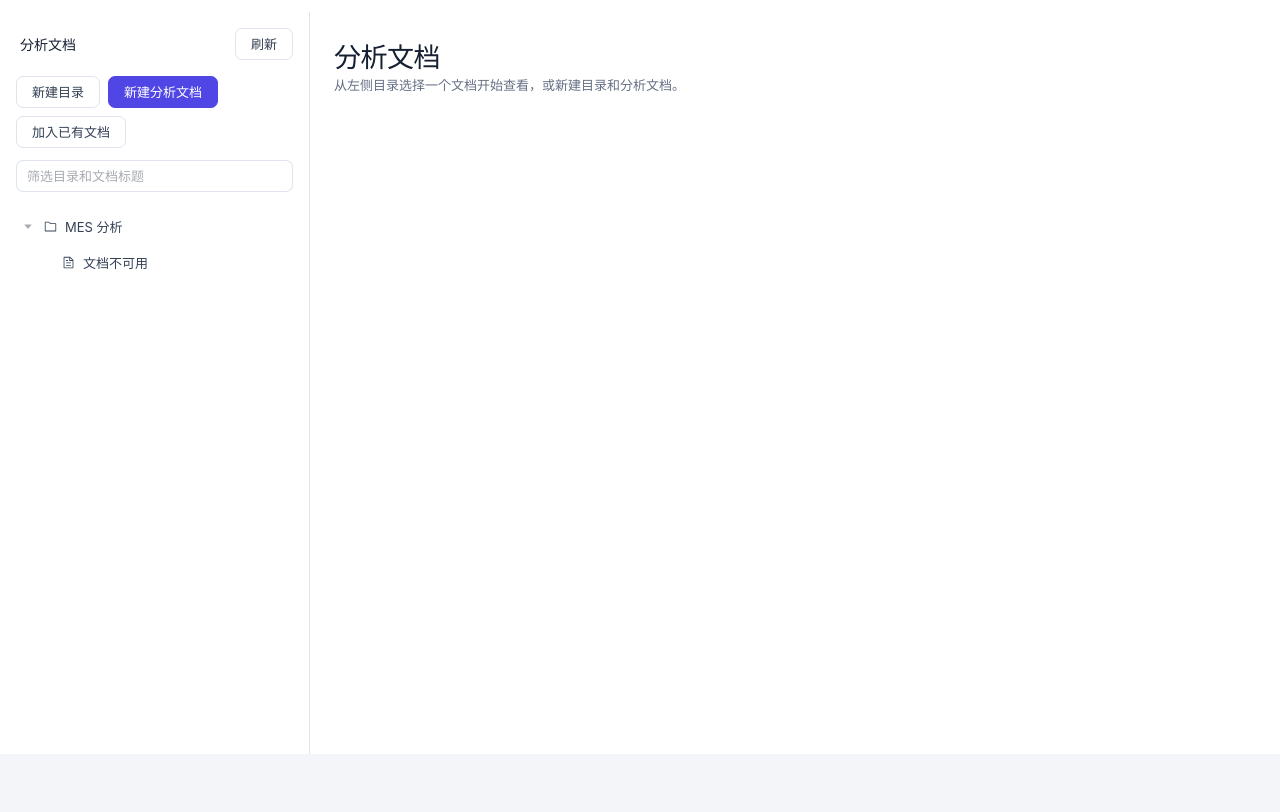
Scenario: B03 placement, title filter and handoff › never filters unavailable nodes by stale titles
Type "删除前标题" into the field named "筛选目录和文档标题". click: x=154, y=176
box: [27, 161, 282, 191]
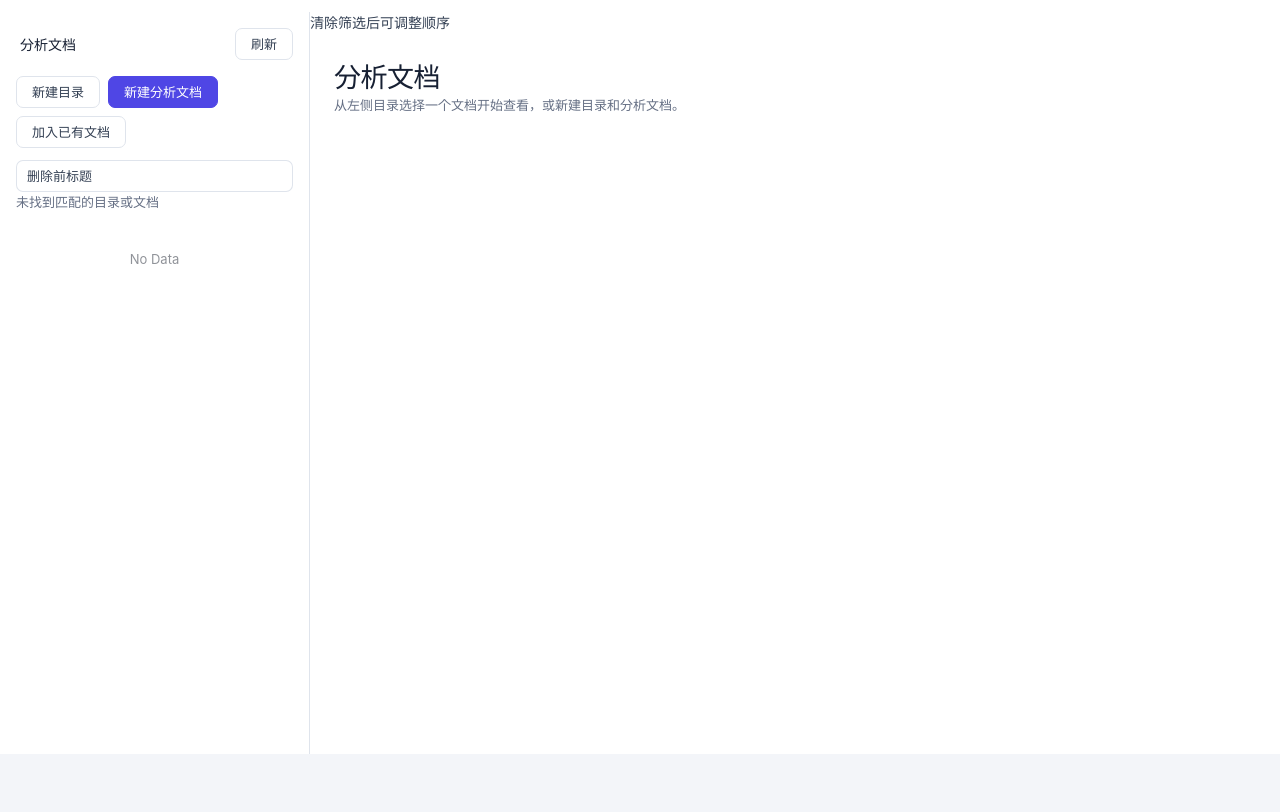
Result: no elements with class "analysis-tree-row" are shown
Replace the text in the field named "筛选目录和文档标题" with "文档不可用". click: x=154, y=176
box: [27, 161, 282, 191]
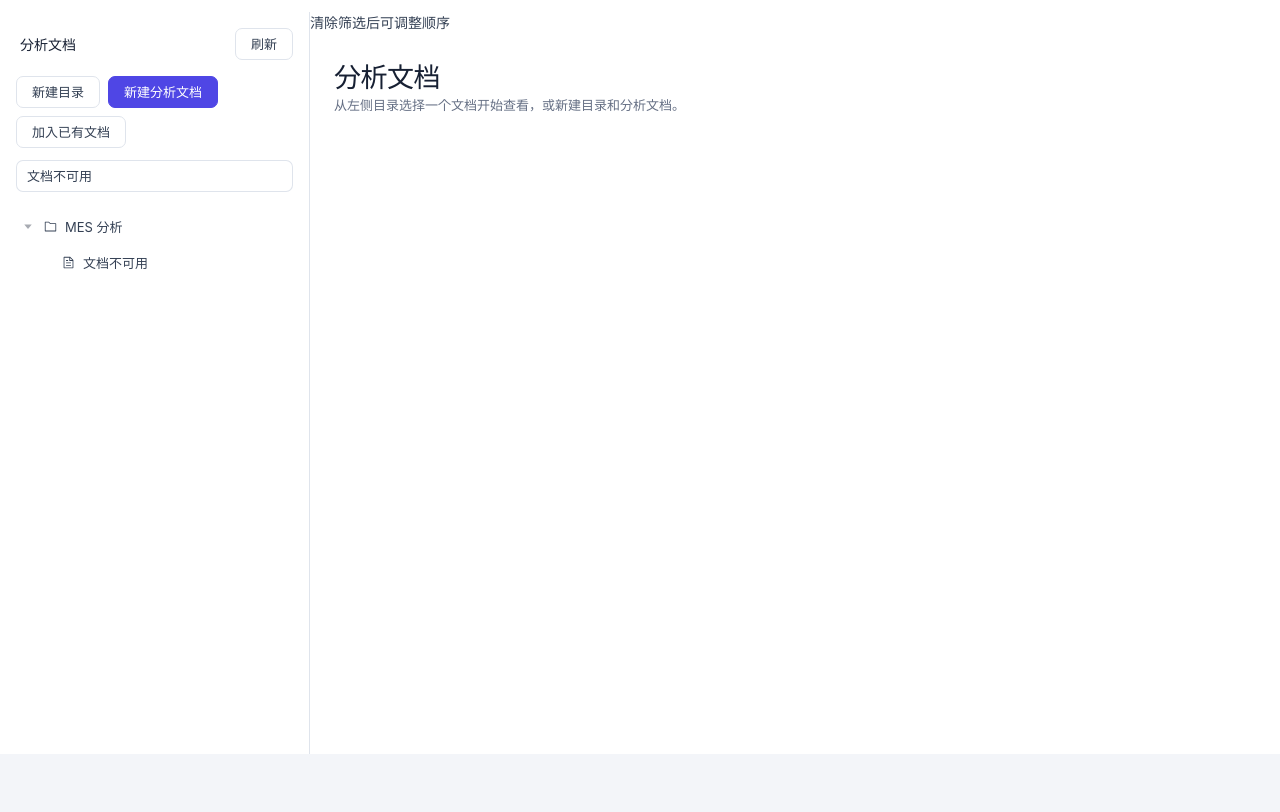
Expected: the text "删除前标题" is not shown
Result: the number of elements with class "analysis-tree-row" is 2 at [44, 218, 123, 234]; [62, 254, 148, 270]
